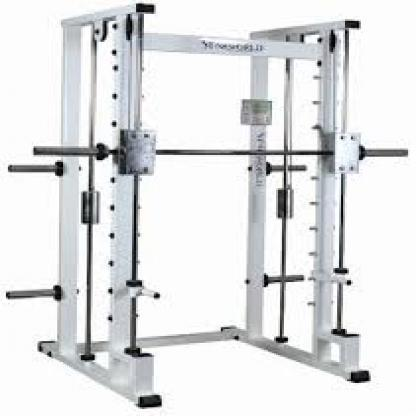smith machine: (7, 3, 373, 409)
